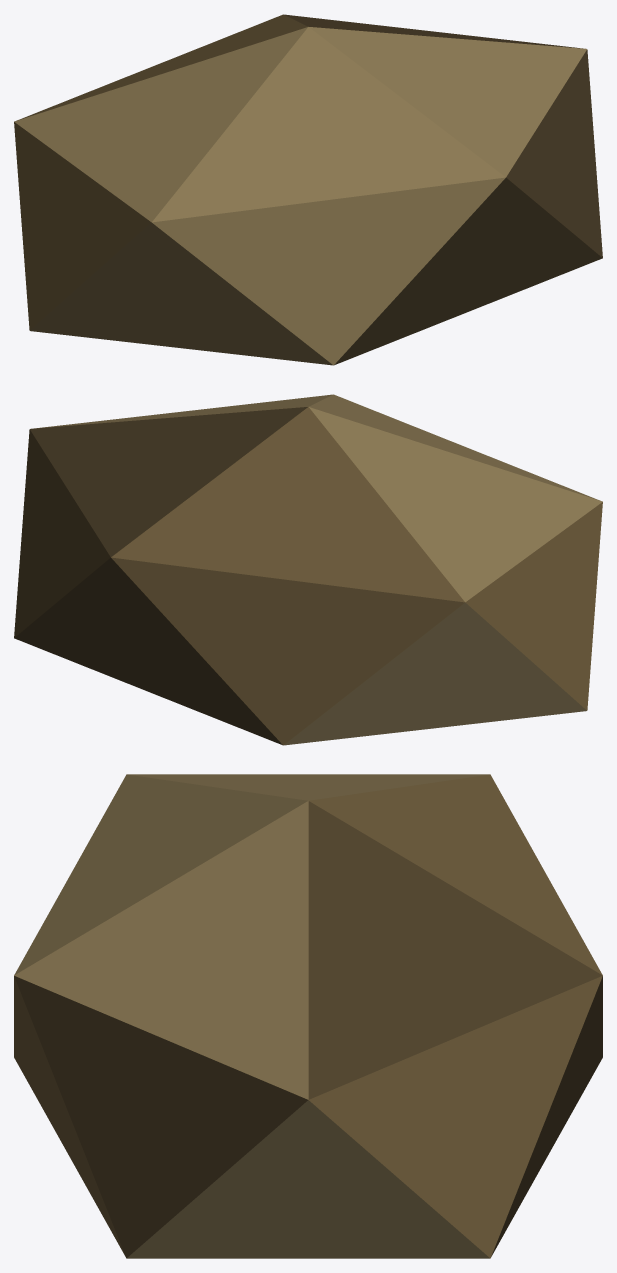
File: SM_Eco_ShoreRock.glb
3 views of the same model, one above another, from view 1: azimuth 30°, elevation 25°; view 2: azimuth 150°, elevation 25°; view 3: azimuth 270°, elevation 25° (orthographic). The views are drawn at different scales.
Parts seen in each view (by area): view 1: SM_Eco_ShoreRock; view 2: SM_Eco_ShoreRock; view 3: SM_Eco_ShoreRock.
Boxes of the visible parts, x1,y1,x2,y2 form: SM_Eco_ShoreRock: [14, 14, 602, 365]; SM_Eco_ShoreRock: [14, 394, 602, 745]; SM_Eco_ShoreRock: [14, 774, 602, 1258].
Size of the model in its own units: 1.97 by 0.9 by 1.36.
Materials: 1 (1 with a texture image).
